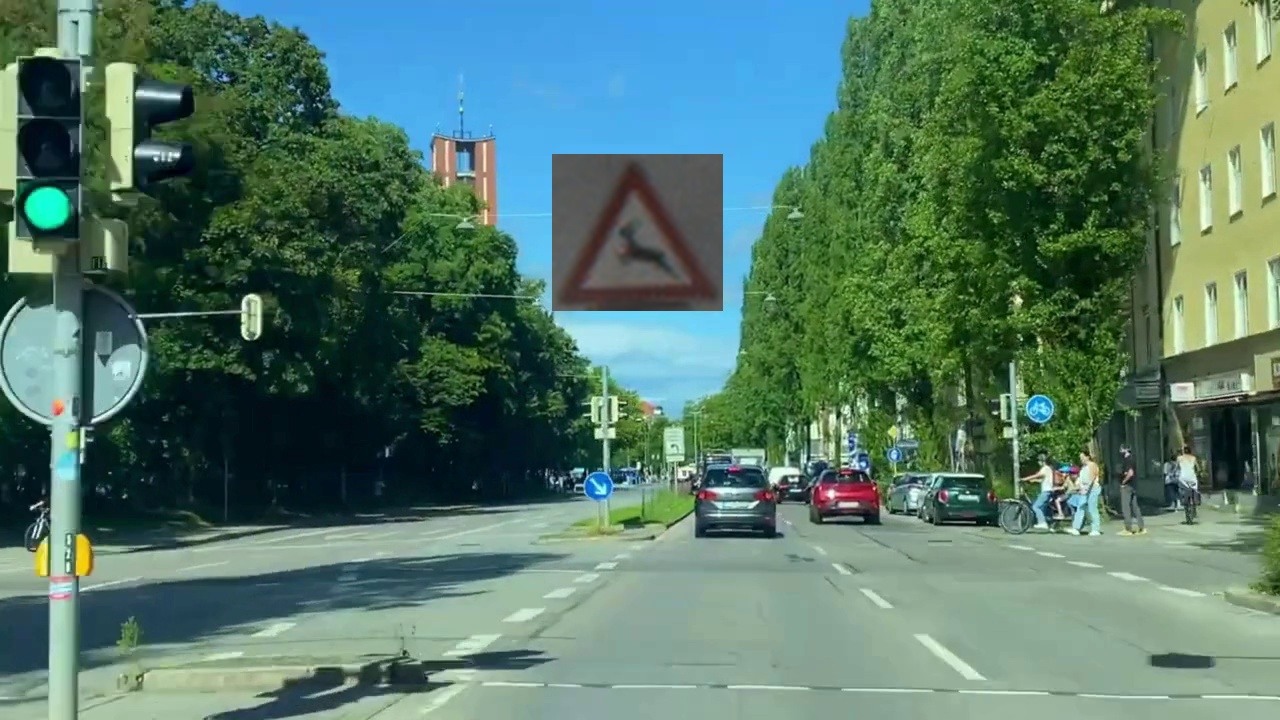Wild animals: (552, 154, 723, 311)
